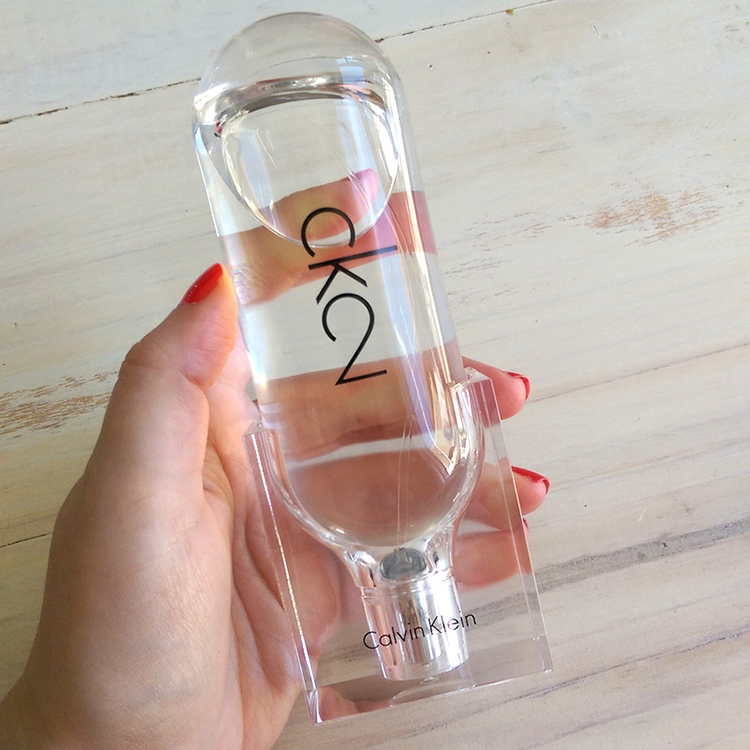Calvin Klein: (297, 201, 403, 308), (355, 608, 490, 652)
